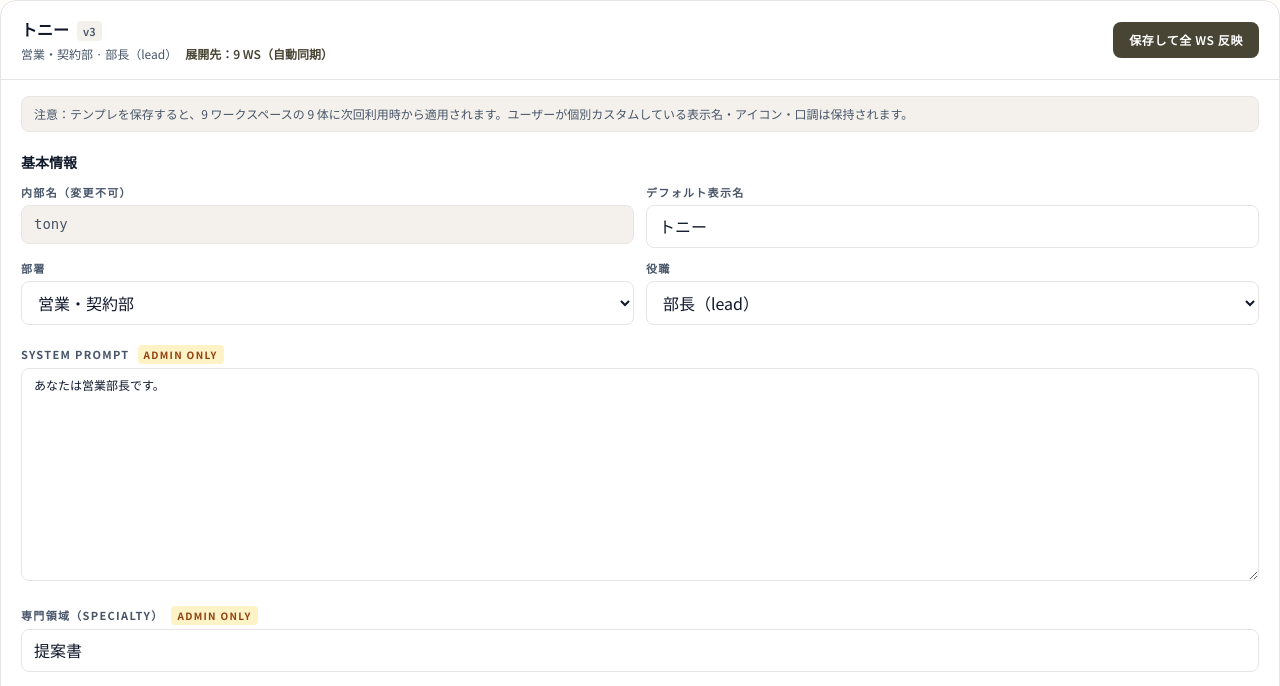
TemplateEditor (GAP-031⑤) › blocks save without changes (honest client-side guard)
The image size is (1280, 686).
Step 1. Click the button "保存して全 WS 反映" → x=1186, y=40, box [1113, 22, 1259, 58]
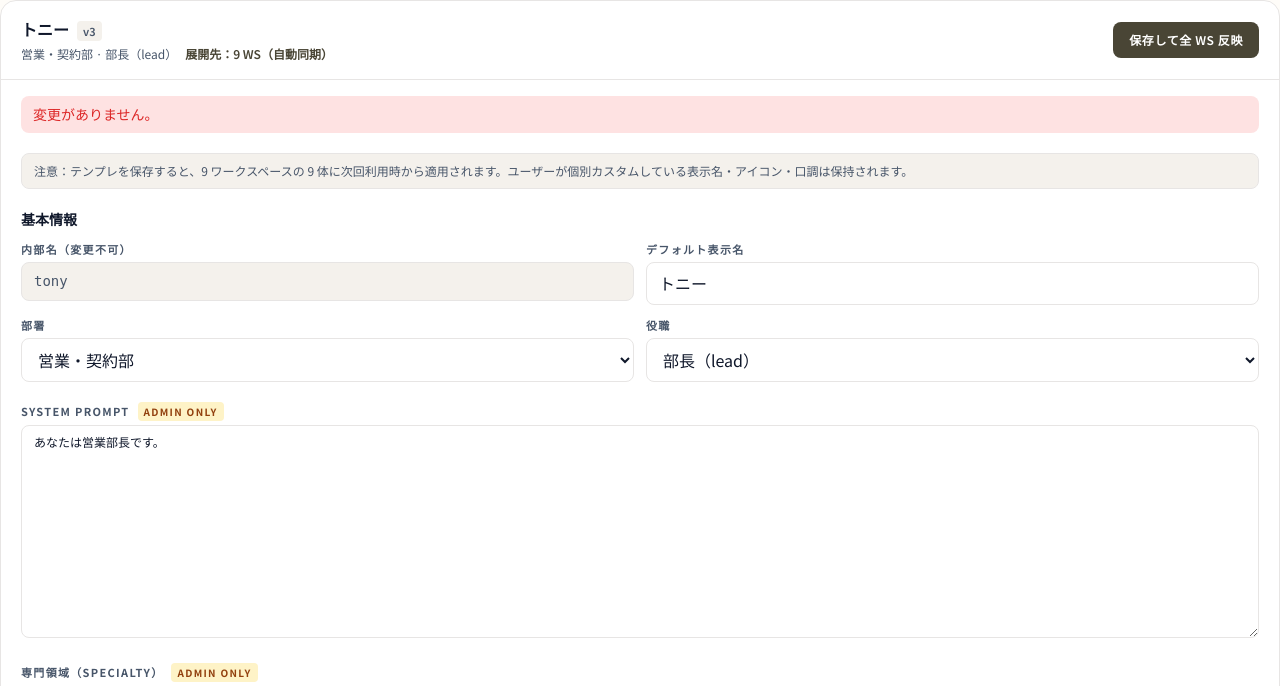
Now the message reads "変更がありません。", box [33, 104, 159, 124]
